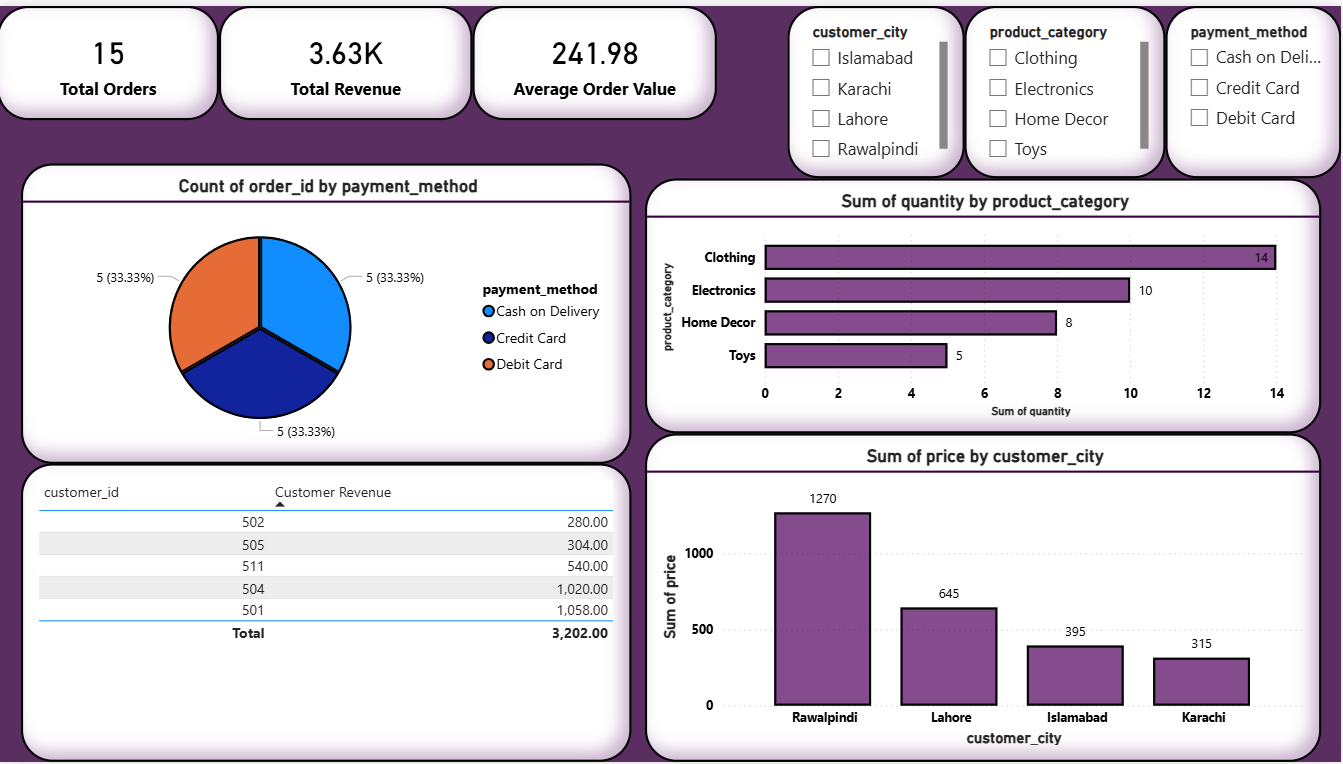

Layout of this report page (visuals, bound fields, positions):
{"tool":"powerbi","page":{"name":"Page 1","canvas":[1280,720],"ordinal":0},"visuals":[{"type":"card","fields":{"Values":["online_retail.Total Orders"]},"box":[0,0,211.4,108.6],"z":0},{"type":"card","fields":{"Values":["online_retail.Total Revenue"]},"box":[211.4,0,241.4,108.6],"z":1000},{"type":"card","fields":{"Values":["online_retail.Average Order Value"]},"box":[452.9,0,232.9,108.6],"z":2000},{"type":"barChart","fields":{"Category":["online_retail.product_category"],"Y":["Sum(online_retail.quantity)"]},"box":[617.1,164.3,644.3,242.9],"z":3000},{"type":"pieChart","fields":{"Category":["online_retail.payment_method"],"Y":["CountNonNull(online_retail.order_id)"]},"box":[22.9,150,581.4,285.7],"z":4000},{"type":"tableEx","fields":{"Values":["online_retail.customer_id","online_retail.Customer Revenue"]},"box":[22.9,435.7,581.4,284.3],"z":5000},{"type":"columnChart","fields":{"Category":["online_retail.customer_city"],"Y":["Sum(online_retail.price)"]},"box":[617.1,407.1,644.3,312.9],"z":5001},{"type":"slicer","fields":{"Values":["online_retail.customer_city"]},"box":[752.9,0,168.6,164.3],"z":5002},{"type":"slicer","fields":{"Values":["online_retail.product_category"]},"box":[921.4,0,191.4,164.3],"z":5003},{"type":"slicer","fields":{"Values":["online_retail.payment_method"]},"box":[1112.9,0,167.1,164.3],"z":5004}]}

Visuals, with their boxes in screenshot pixels (x1, y1, x2, y2), scaled from the page's 1280x720 canvas onto the 1343x764 screenshot:
card - online_retail.Total Orders: box=[0, 0, 222, 115]
card - online_retail.Total Revenue: box=[222, 0, 475, 115]
card - online_retail.Average Order Value: box=[475, 0, 720, 115]
barChart - online_retail.product_category x Sum(online_retail.quantity): box=[647, 174, 1323, 432]
pieChart - online_retail.payment_method x CountNonNull(online_retail.order_id): box=[24, 159, 634, 462]
tableEx - online_retail.customer_id x online_retail.Customer Revenue: box=[24, 462, 634, 763]
columnChart - online_retail.customer_city x Sum(online_retail.price): box=[647, 432, 1323, 763]
slicer - online_retail.customer_city: box=[790, 0, 967, 174]
slicer - online_retail.product_category: box=[967, 0, 1168, 174]
slicer - online_retail.payment_method: box=[1168, 0, 1342, 174]
